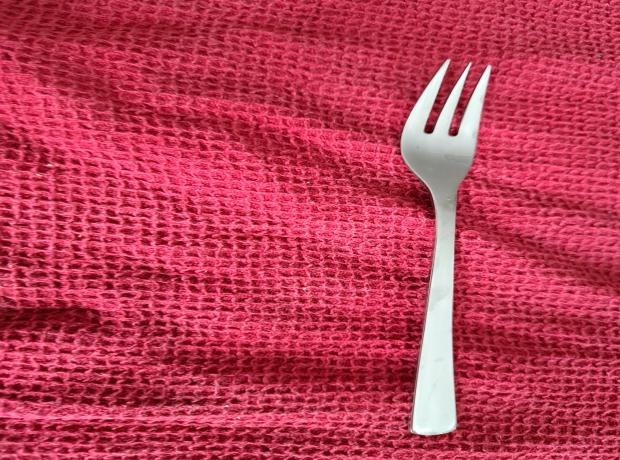metal: (401, 63, 500, 454)
